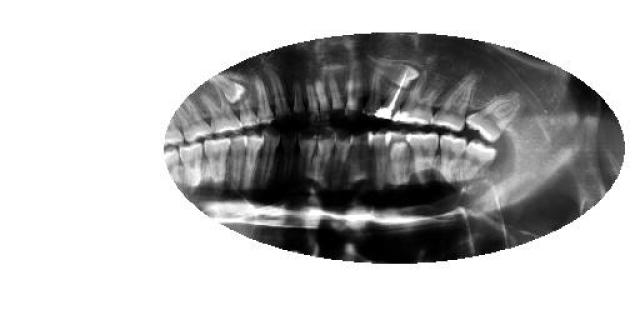Implant: (374, 66, 415, 122)
